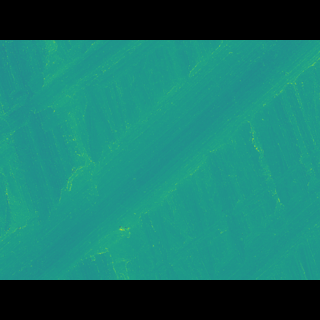Loch: (0, 69, 319, 251), (0, 70, 167, 167), (204, 168, 319, 249)
